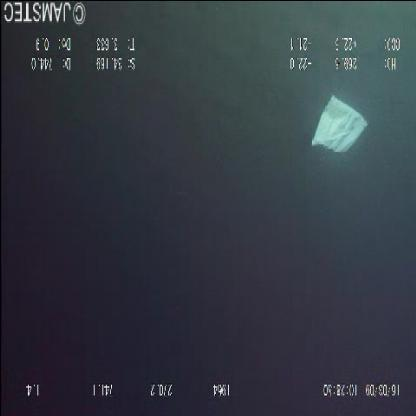Rác: (311, 86, 371, 157)
